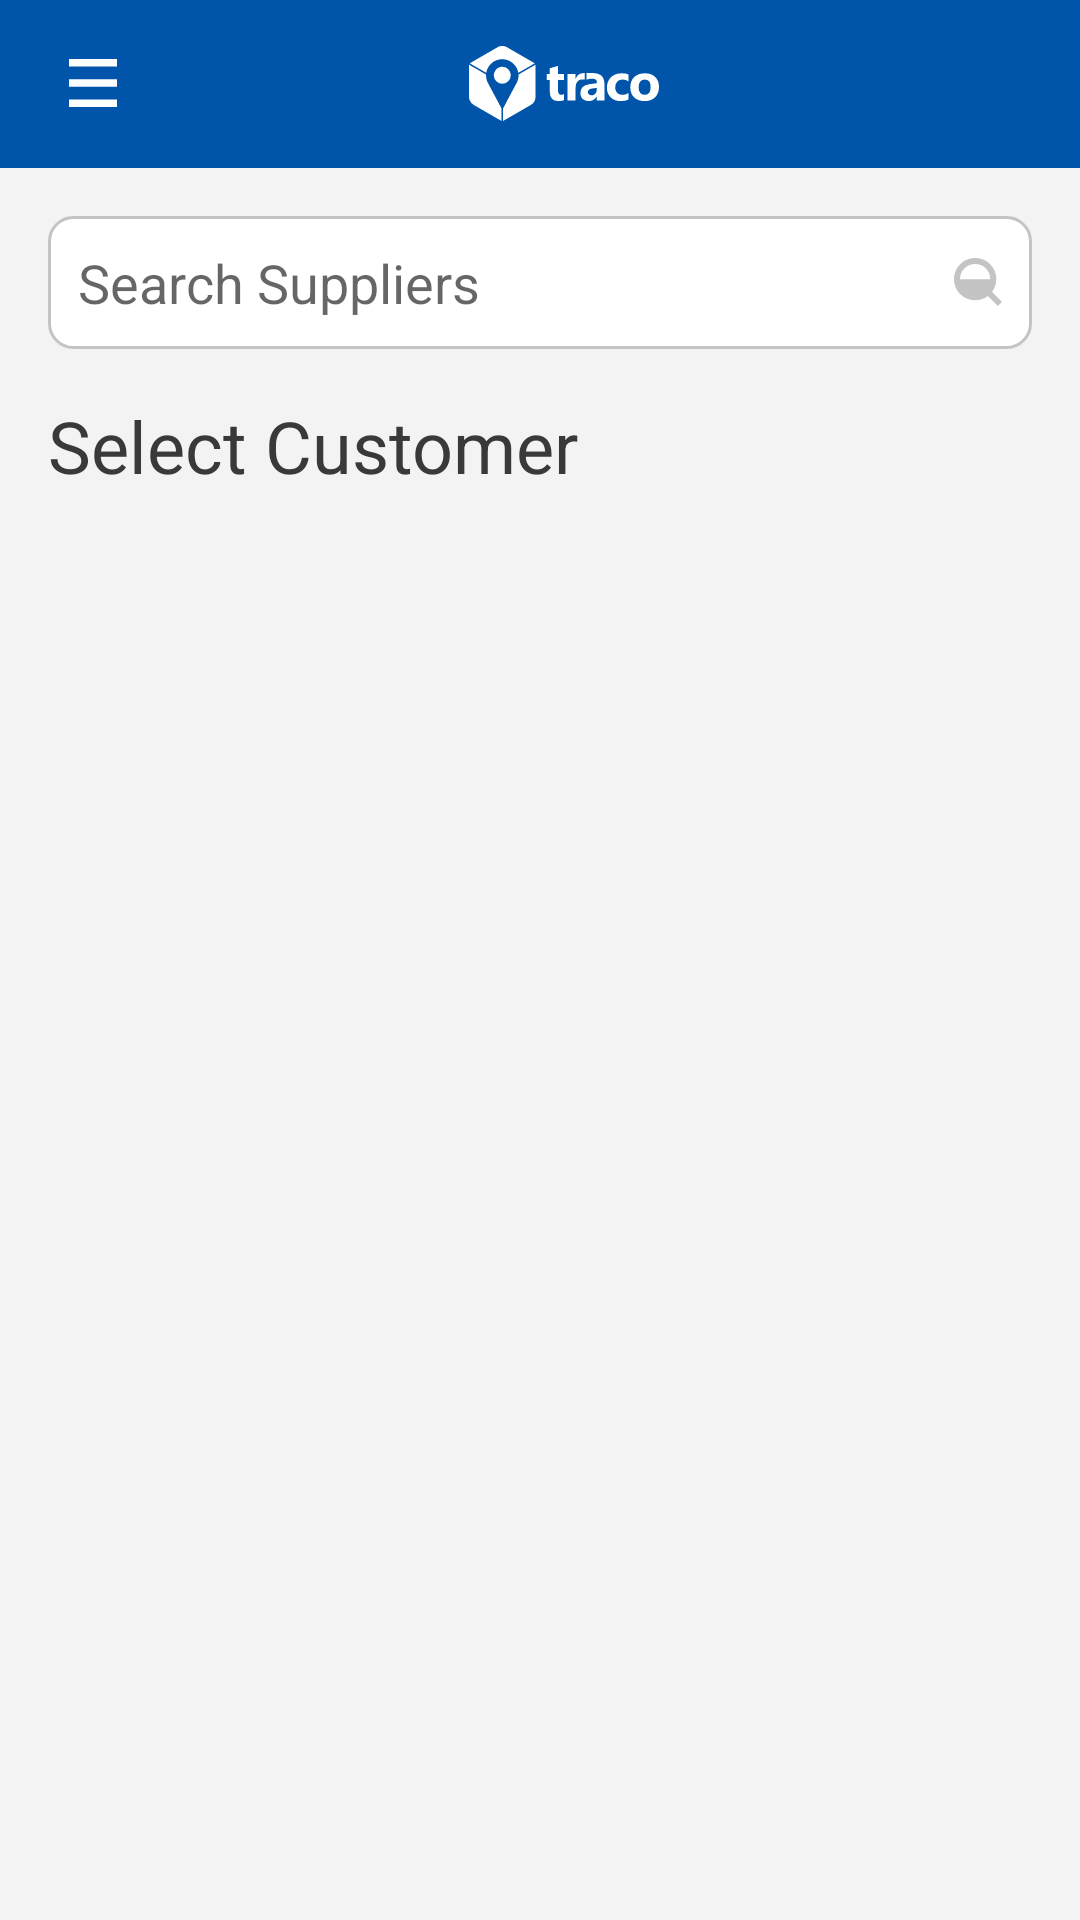

Icon click points for this 1080x1920 phone screenshot, format point (x, y):
hamburger: point (93, 83)
